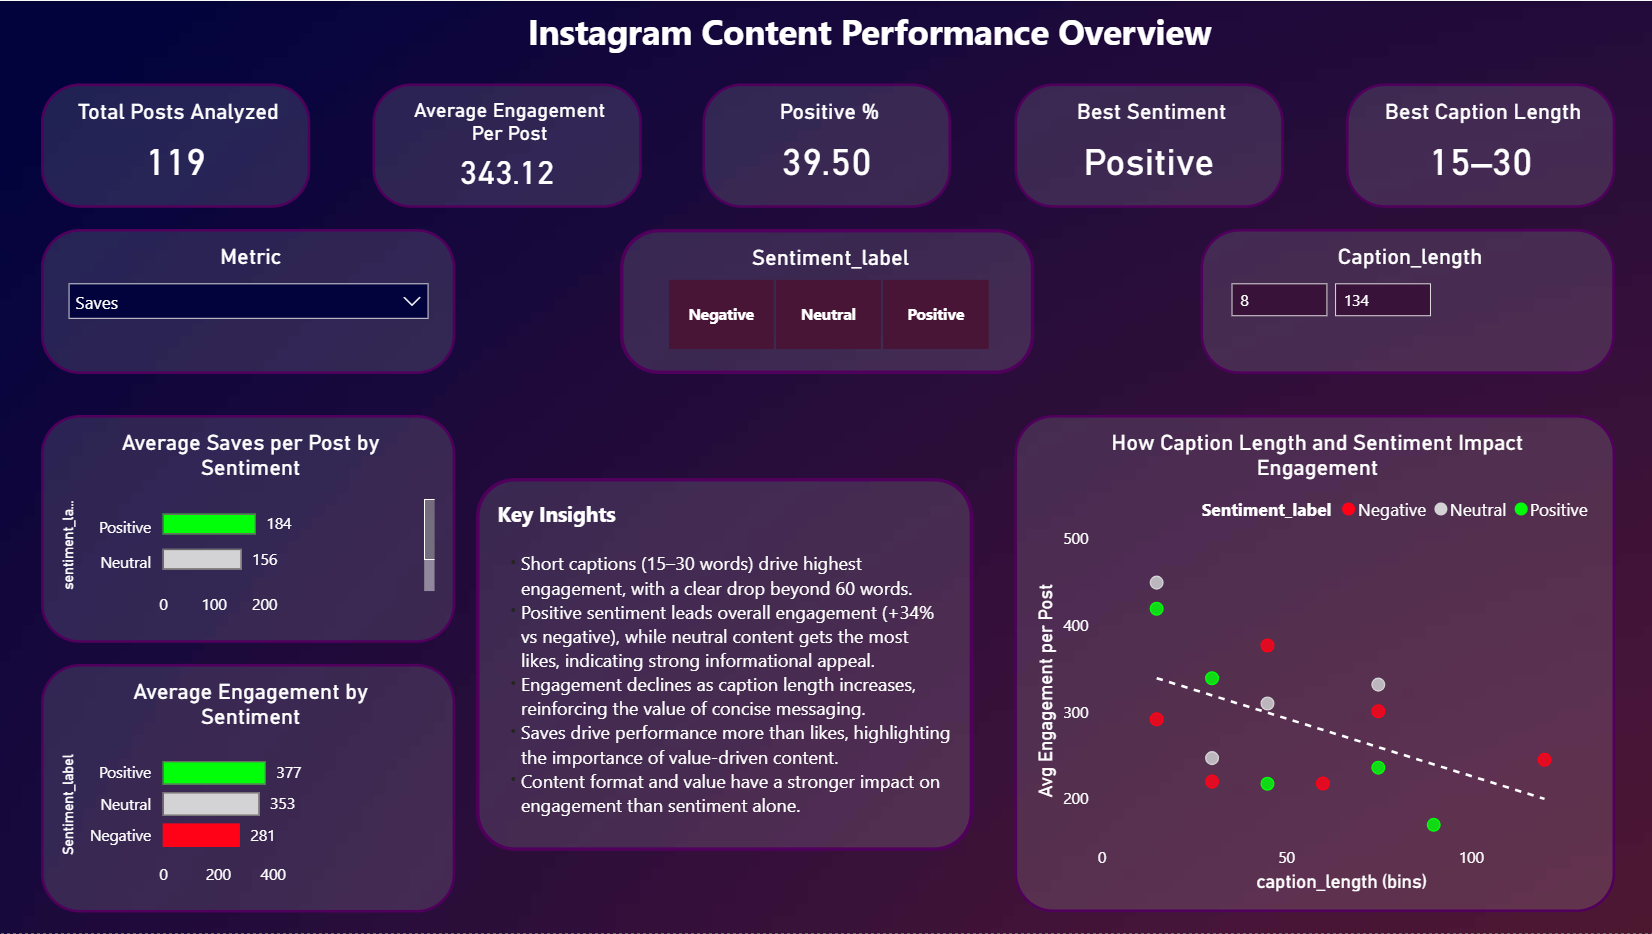

The dashboard page shown, as its layout file describes it:
{"tool":"powerbi","page":{"name":"SentimentAnalysis","canvas":[1280,720],"ordinal":0},"visuals":[{"type":"card","title":"Total Posts Analyzed","fields":{"Values":["final_output.Total Posts"]},"box":[32,64,208,96],"z":0},{"type":"clusteredBarChart","title":"Average Engagement by Sentiment","fields":{"Category":["final_output.sentiment_label"],"Y":["final_output.Avg Engagement per Post"]},"box":[32,512,320,192],"z":1000},{"type":"textbox","box":[368,0,608,64],"z":2000},{"type":"card","title":"Average Engagement Per Post","fields":{"Values":["final_output.Avg Engagement per Post"]},"box":[288,64,208,96],"z":3000},{"type":"card","title":"Positive %","fields":{"Values":["final_output.Positive %"]},"box":[544,64,192,96],"z":4000},{"type":"slicer","title":"Sentiment_label","fields":{"Values":["final_output.sentiment_label"]},"box":[480,176,320,112],"z":5000},{"type":"card","title":"Best Sentiment","fields":{"Values":["final_output.Best Sentiment"]},"box":[784,64,208,96],"z":6000},{"type":"scatterChart","title":"How Caption Length and Sentiment Impact Engagement","fields":{"X":["final_output.caption_length (bins)"],"Y":["final_output.Avg Engagement per Post"],"Series":["final_output.sentiment_label"]},"box":[784,320,464,384],"z":7000},{"type":"slicer","title":"Metric","fields":{"Values":["Metric Selector.Metric"]},"box":[32,176,320,112],"z":8000},{"type":"barChart","fields":{"Category":["final_output.sentiment_label"],"Y":["Metric Selector.Selected Metric Value"]},"box":[32,320,320,176],"z":9000},{"type":"card","title":"Best Caption Length","fields":{"Values":["Metric Selector.Best Caption Length"]},"box":[1040,64,208,96],"z":10000},{"type":"textbox","box":[368,368,384,288],"z":11000},{"type":"slicer","title":"Caption_length","fields":{"Values":["final_output.caption_length"]},"box":[928,176,320,112],"z":12000}]}

Visuals, with their boxes in screenshot pixels (x1, y1, x2, y2), scaled from the page's 1280x720 canvas onto the 1652x934 screenshot:
"Total Posts Analyzed" card: detection(41, 83, 310, 208)
"Average Engagement by Sentiment" clusteredBarChart: detection(41, 664, 454, 913)
textbox: detection(475, 0, 1260, 83)
"Average Engagement Per Post" card: detection(372, 83, 640, 208)
"Positive %" card: detection(702, 83, 950, 208)
"Sentiment_label" slicer: detection(620, 228, 1032, 374)
"Best Sentiment" card: detection(1012, 83, 1280, 208)
"How Caption Length and Sentiment Impact Engagement" scatterChart: detection(1012, 415, 1611, 913)
"Metric" slicer: detection(41, 228, 454, 374)
barChart - final_output.sentiment_label x Metric Selector.Selected Metric Value: detection(41, 415, 454, 643)
"Best Caption Length" card: detection(1342, 83, 1611, 208)
textbox: detection(475, 477, 971, 851)
"Caption_length" slicer: detection(1198, 228, 1611, 374)
